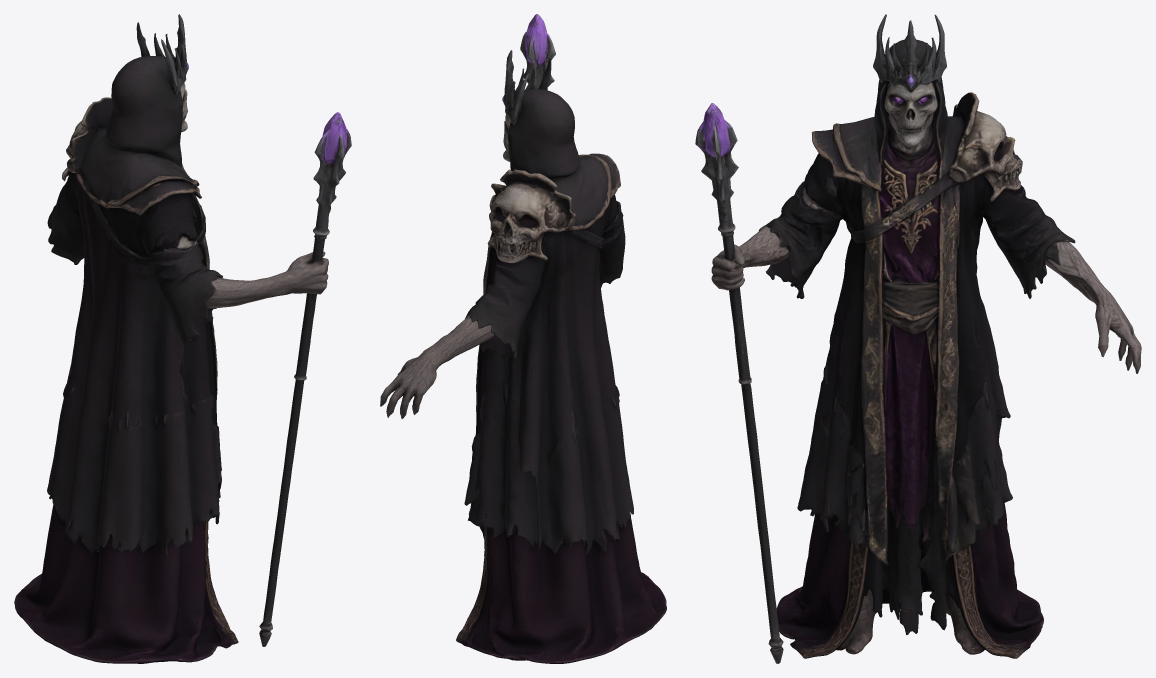
The model's file is lich-original.glb.
The picture shows the model from 3 angles, left to right: view 1: azimuth 30°, elevation 25°; view 2: azimuth 150°, elevation 25°; view 3: azimuth 270°, elevation 25°; orthographic projection. The views are drawn at different scales.
Visible parts, largest first — view 1: tripo_node_2c3d4799-65fe-41ba-8b61-38f8477da398; view 2: tripo_node_2c3d4799-65fe-41ba-8b61-38f8477da398; view 3: tripo_node_2c3d4799-65fe-41ba-8b61-38f8477da398.
Boxes of the visible parts, <box> form: tripo_node_2c3d4799-65fe-41ba-8b61-38f8477da398: <box>14,14,351,663</box>; tripo_node_2c3d4799-65fe-41ba-8b61-38f8477da398: <box>380,14,666,663</box>; tripo_node_2c3d4799-65fe-41ba-8b61-38f8477da398: <box>695,14,1141,663</box>.
Size of the model in its own units: 0.3932 by 1 by 0.6364.
Materials: 1 (1 with a texture image).
